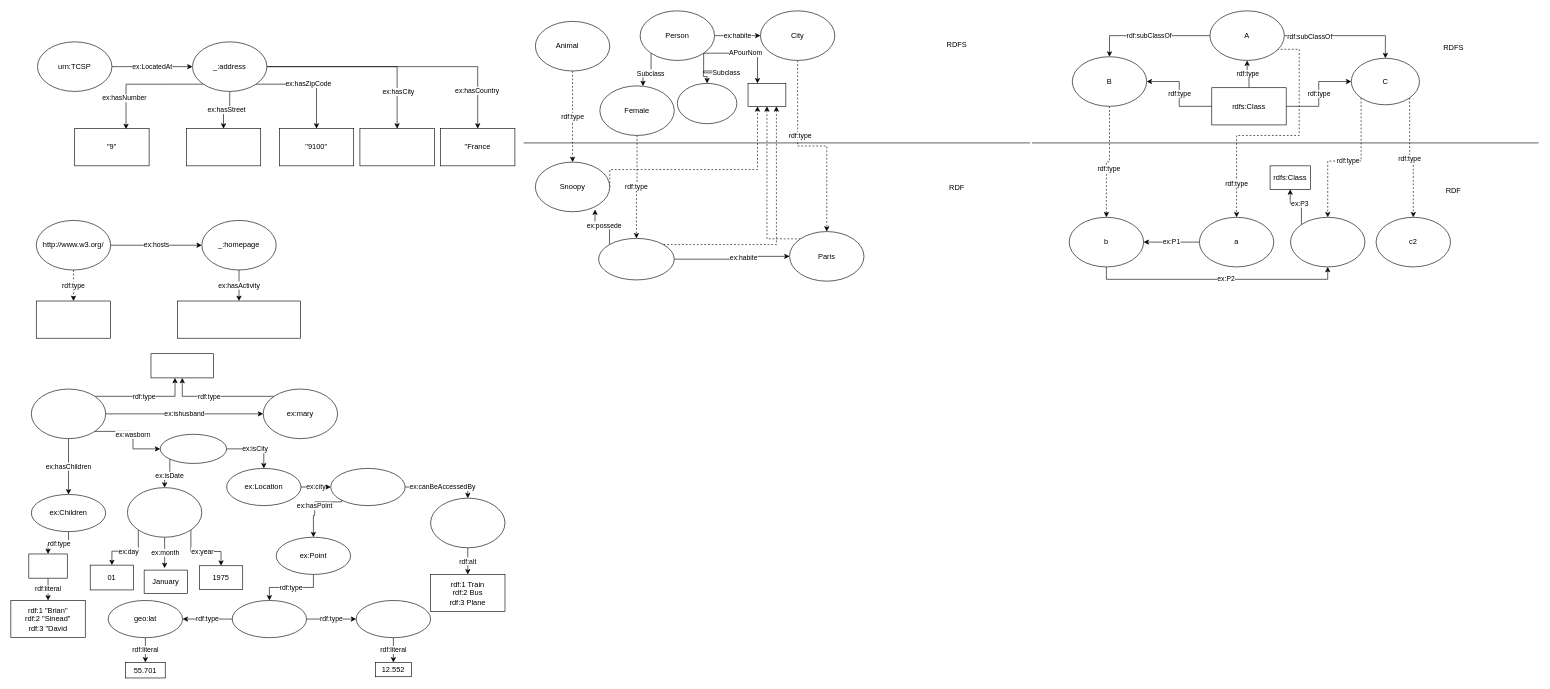
Some shapes in this 1550 by 689 pixel diagram are drawn without their labels. The centre of each missing label's shape, as x and y in pixels:
"Charles Fourier": point (223, 147)
"Evry": point (396, 147)
"Website": point (73, 319)
_:Date: point (164, 512)
ActivityOfW3CSemanticWeb: point (238, 319)
Anne: point (636, 259)
c1: point (1327, 242)
ex:GalwayAccess: point (467, 523)
ex:john: point (68, 413)
ex:LocationDate: point (193, 448)
foaf:Person: point (182, 365)
geo:long: point (393, 619)
geo:Point: point (269, 619)
Male: point (707, 103)
rdf:bag: point (47, 565)
urn:Galway: point (367, 487)
xsd:string: point (766, 94)
